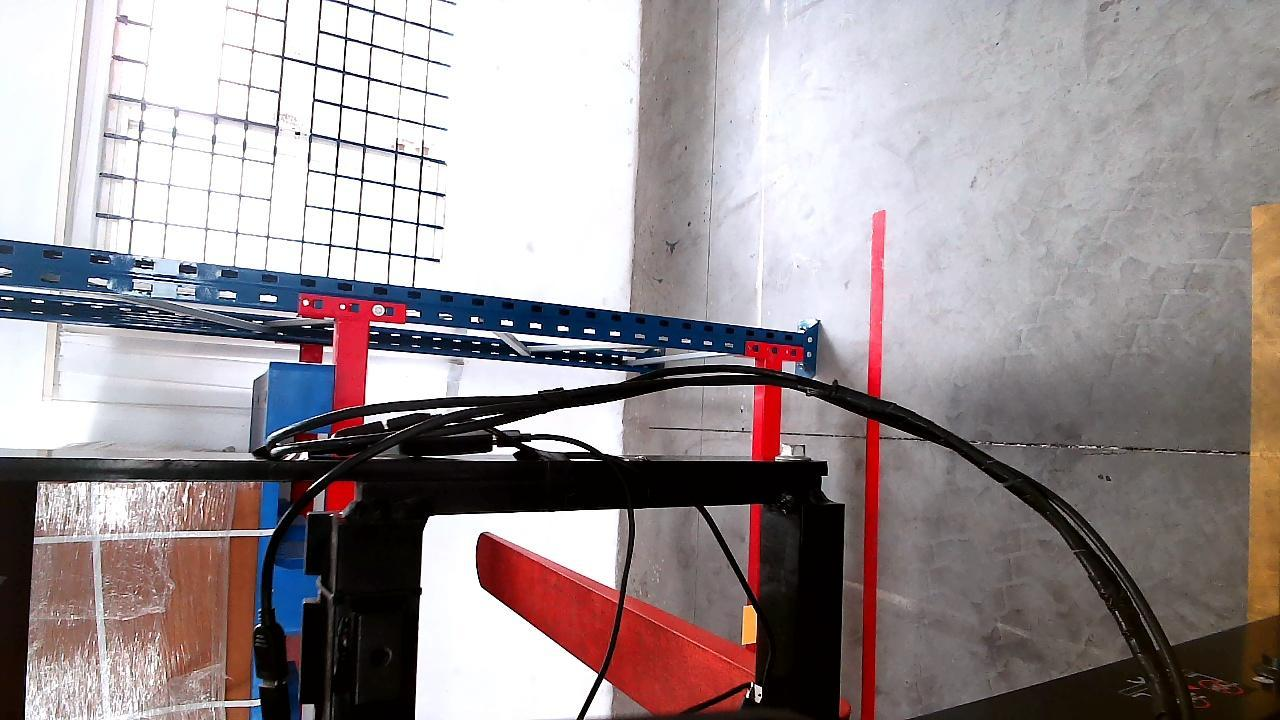red_line: (859, 209, 888, 718)
yellow_line: (1248, 208, 1279, 708)
